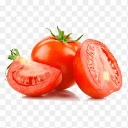tomato: (32, 34, 86, 89), (73, 39, 122, 98), (7, 56, 61, 97)
